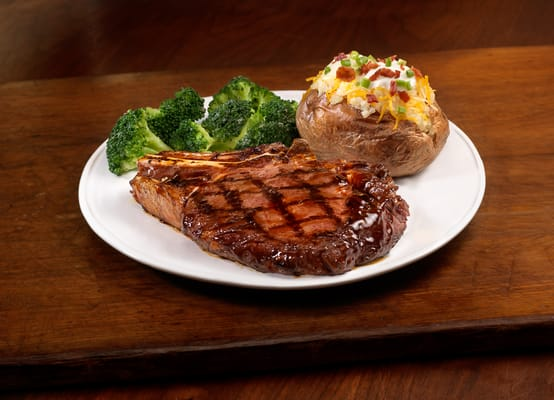curry: (104, 76, 300, 176)
